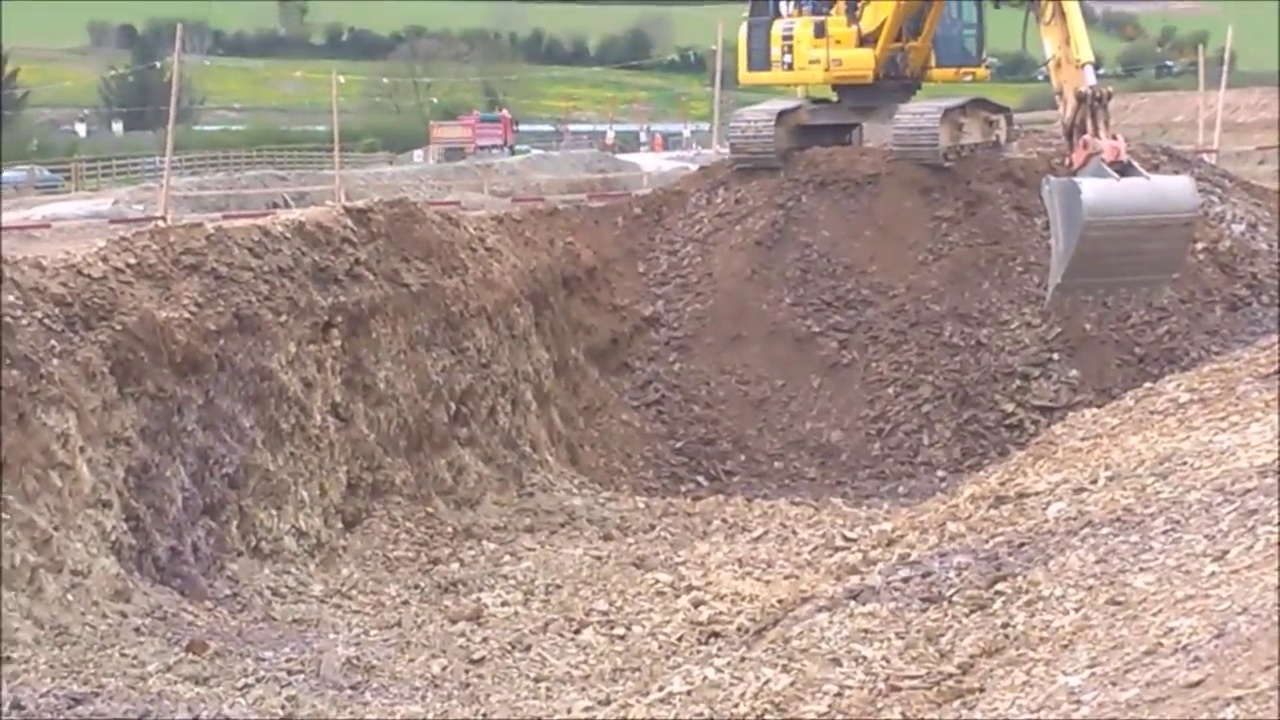excavator: (729, 4, 1201, 302)
truck: (426, 105, 539, 169)
